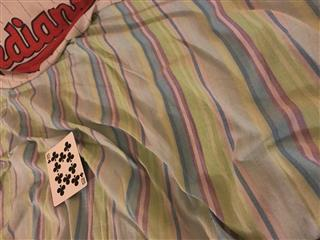TenOfClubs: (43, 130, 88, 207)
